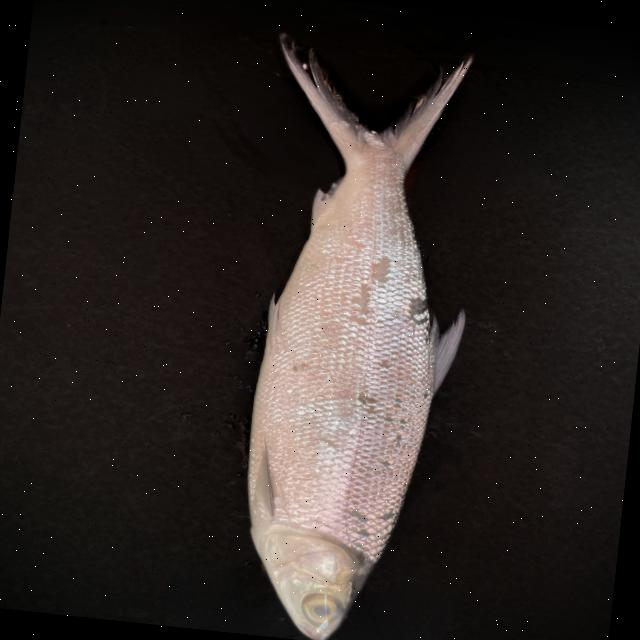995 g: (214, 30, 492, 640)
